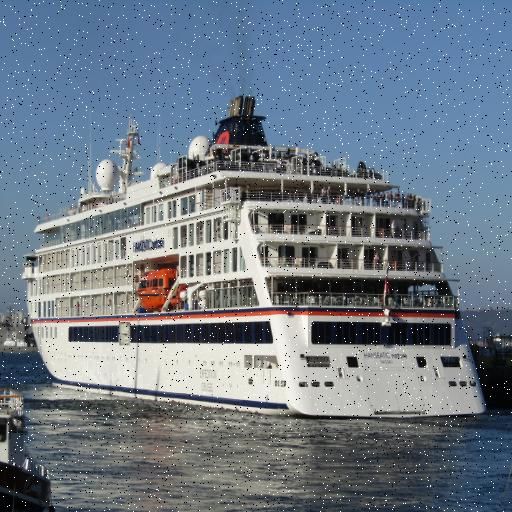cruises: (21, 94, 490, 429)
